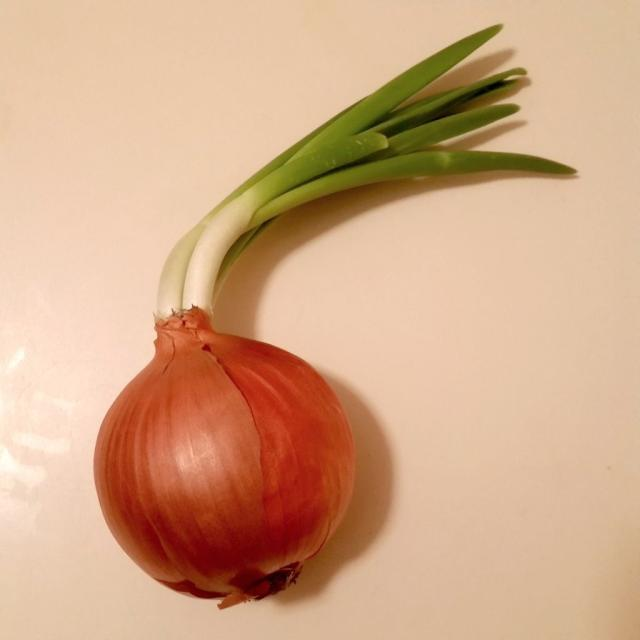sprouting: (76, 33, 511, 640)
